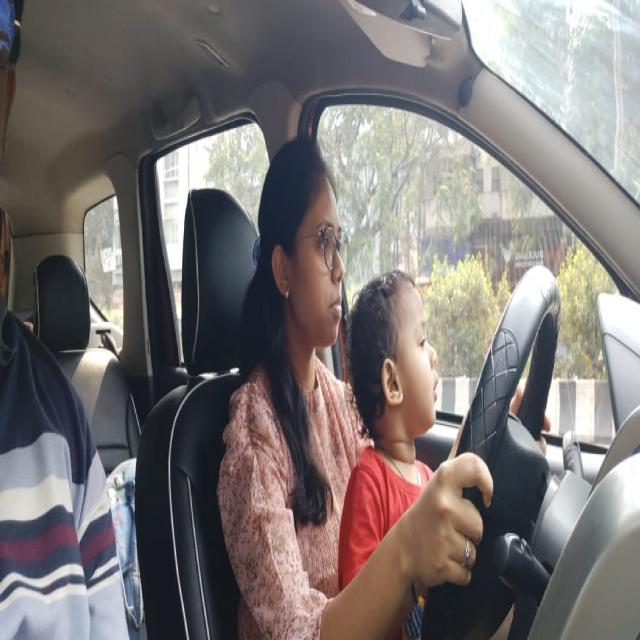child: (349, 271, 442, 447)
person: (250, 131, 347, 353)
